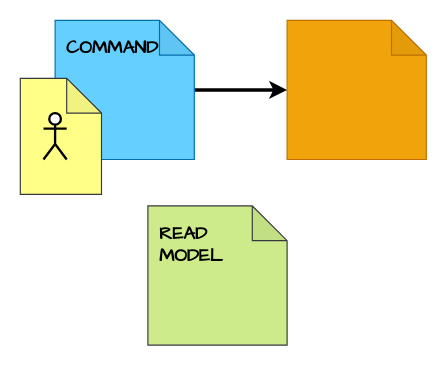
This 447x365 diagram has some shape labels left out. Here are the shapes that lost their labels. From the top down, the centre of each, then its label:
At [356,89]: "DOMAIN EVENT".
At [54,135]: "USER".
